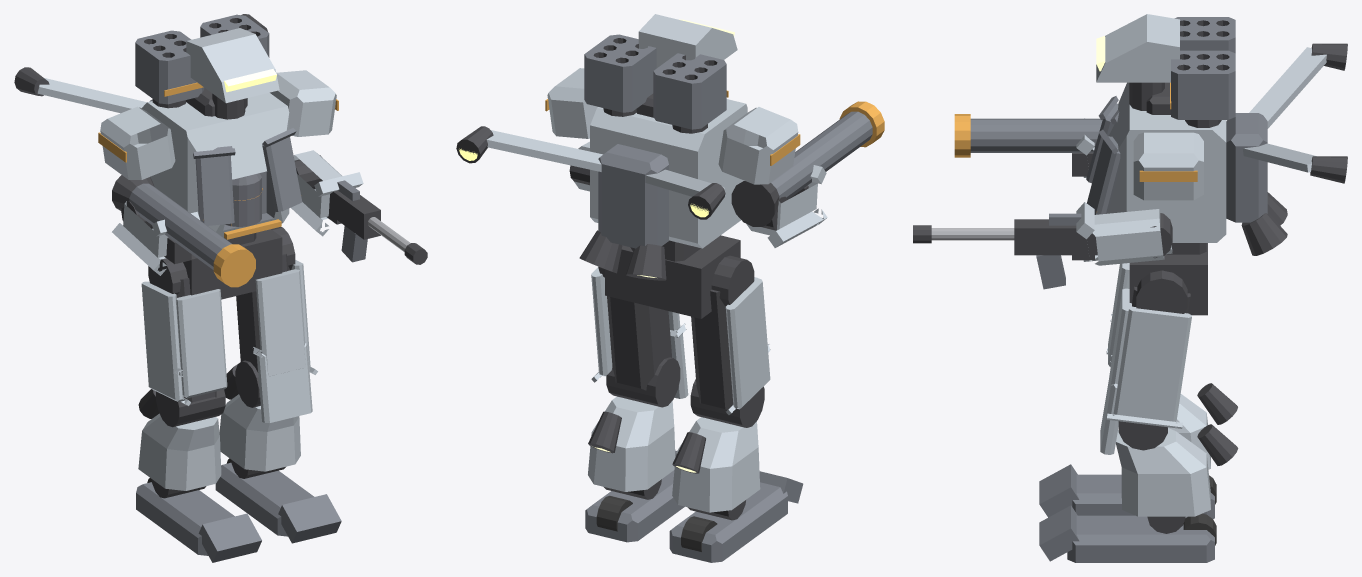
File: skylark.glb
3 renders of one model, left to right at view 1: azimuth 30°, elevation 25°; view 2: azimuth 150°, elevation 25°; view 3: azimuth 270°, elevation 25°, orthographic. The views are drawn at different scales.
Visible parts, largest first — view 1: core, shin-1, thigh-1_front, helm, shin1, thigh1_front, shoulder-1, thigh-1_out, vmissile-1, foot-1, foot1, bazooka-1_tube (+27 smaller); view 2: core, pack, shin-1, shin1, hips, vmissile-1, vmissile1, thigh1, shoulder-1, thigh-1_out, foot-1, thigh-1 (+24 smaller); view 3: core, thigh1_out, shin1, foot1, helm, vmissile1, bazooka-1_tube, shoulder1, pack, forearm1, hips, rifle1_rec (+26 smaller).
Boxes of the visible parts, x1=… form: core: x1=141, y1=92, x2=289, y2=237; shin-1: x1=138, y1=413, x2=221, y2=490; thigh-1_front: x1=176, y1=289, x2=227, y2=398; helm: x1=186, y1=28, x2=279, y2=103; shin1: x1=219, y1=394, x2=300, y2=471; thigh1_front: x1=255, y1=269, x2=305, y2=376; shoulder-1: x1=100, y1=106, x2=175, y2=179; thigh-1_out: x1=141, y1=281, x2=190, y2=405; vmissile-1: x1=135, y1=30, x2=204, y2=104; foot-1: x1=136, y1=482, x2=234, y2=555; foot1: x1=215, y1=462, x2=314, y2=536; bazooka-1_tube: x1=129, y1=183, x2=232, y2=269; core: x1=590, y1=99, x2=747, y2=248; pack: x1=598, y1=144, x2=668, y2=248; shin-1: x1=672, y1=417, x2=760, y2=512; shin1: x1=588, y1=396, x2=675, y2=491; hips: x1=605, y1=235, x2=740, y2=318; vmissile-1: x1=653, y1=53, x2=726, y2=129; vmissile1: x1=584, y1=34, x2=656, y2=112; thigh1: x1=607, y1=296, x2=671, y2=390; shoulder-1: x1=718, y1=107, x2=798, y2=184; thigh-1_out: x1=725, y1=278, x2=770, y2=414; foot-1: x1=669, y1=482, x2=787, y2=562; thigh-1: x1=691, y1=289, x2=733, y2=409; core: x1=1108, y1=82, x2=1226, y2=242; thigh1_out: x1=1106, y1=306, x2=1191, y2=428; shin1: x1=1116, y1=428, x2=1210, y2=516; foot1: x1=1067, y1=515, x2=1214, y2=562; helm: x1=1096, y1=14, x2=1179, y2=82; vmissile1: x1=1171, y1=50, x2=1235, y2=119; bazooka-1_tube: x1=970, y1=118, x2=1102, y2=152; shoulder1: x1=1133, y1=132, x2=1203, y2=200; pack: x1=1226, y1=113, x2=1267, y2=222; forearm1: x1=1076, y1=202, x2=1172, y2=265; hips: x1=1129, y1=243, x2=1207, y2=315; rifle1_rec: x1=1014, y1=219, x2=1097, y2=255.
Size of the model in its own units: 12.8 by 24.09 by 18.88.
